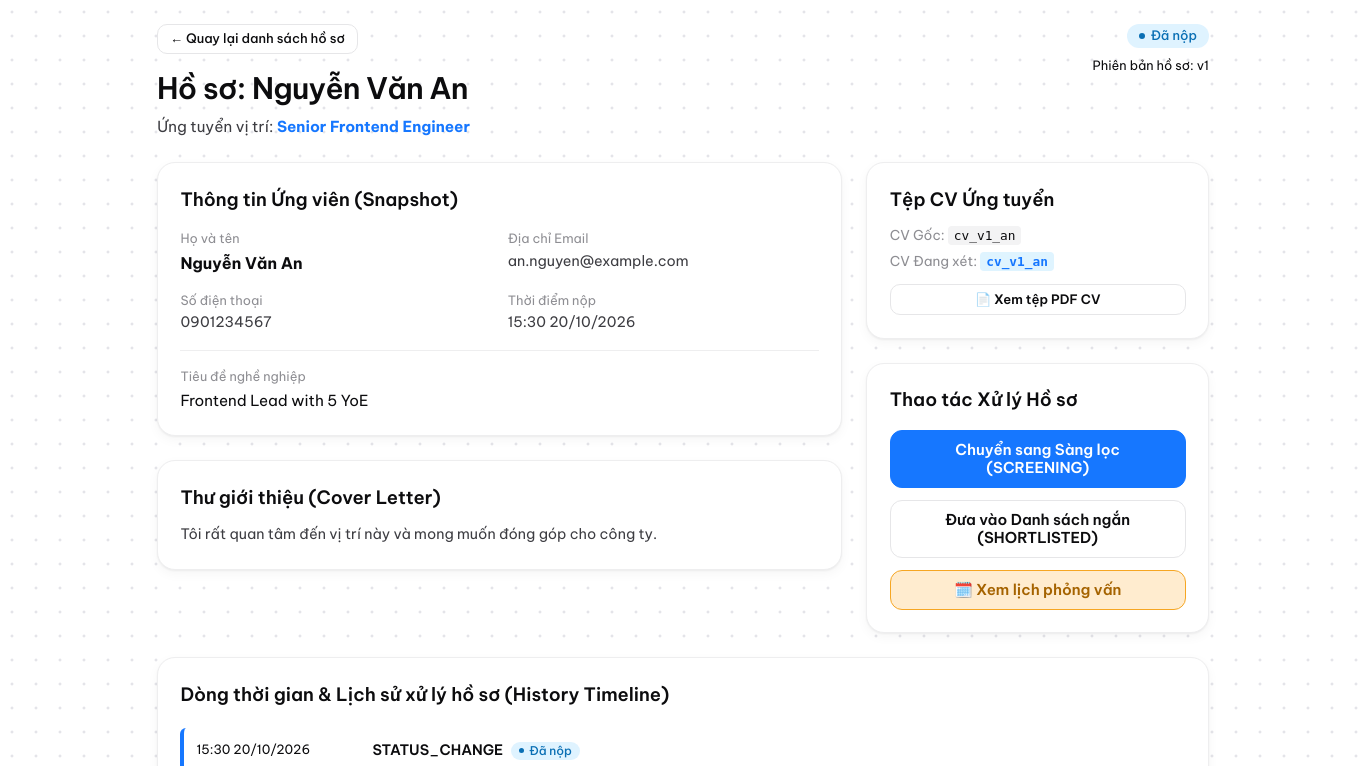
RecruiterApplicationDetailPage (UI20, UI23, FE31) › opens and closes CV preview modal
The width and height of the screenshot is (1366, 766).
Click the button with test id "preview-cv-btn".
click(1038, 300)  # box [890, 284, 1186, 315]
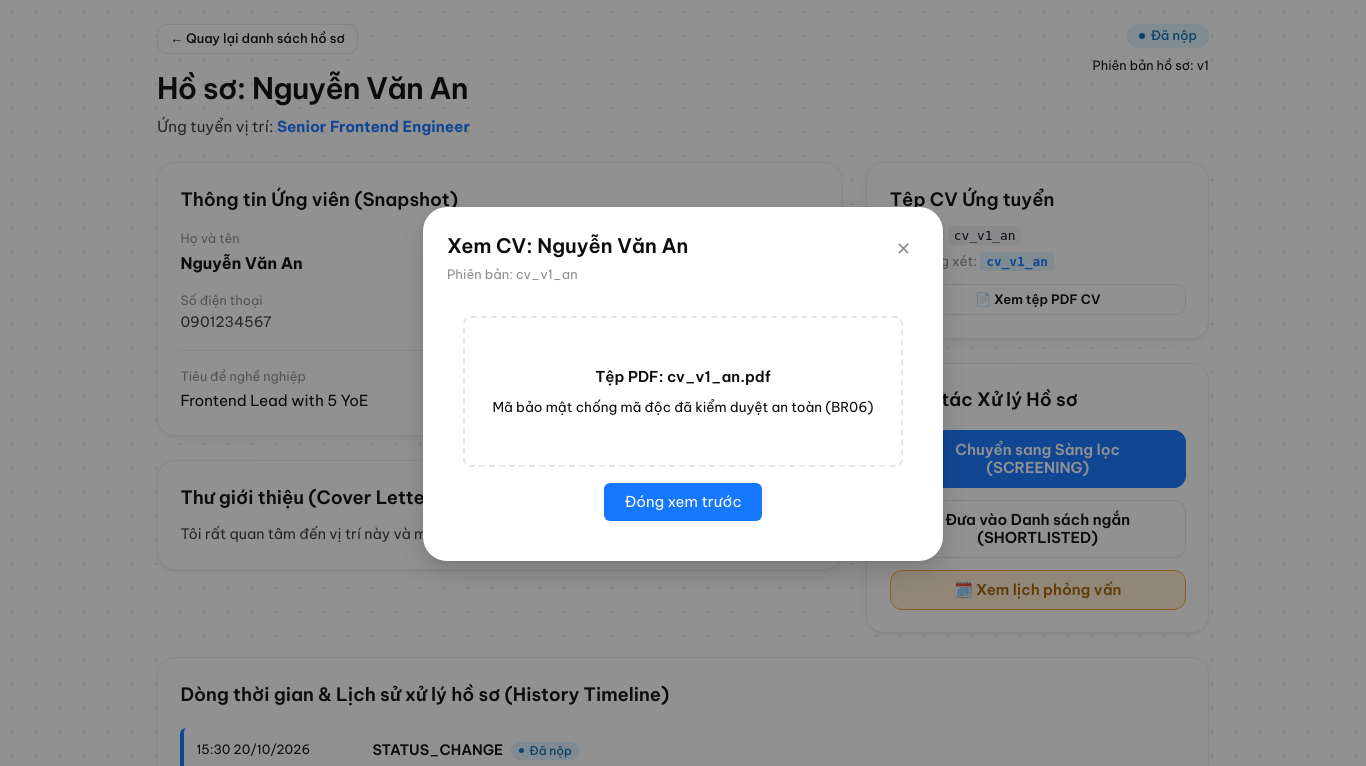
Now the element with test id "cv-preview-modal-content" is shown, box [447, 300, 919, 537]
Click the button "Đóng xem trước".
click(683, 502)  # box [604, 483, 762, 521]
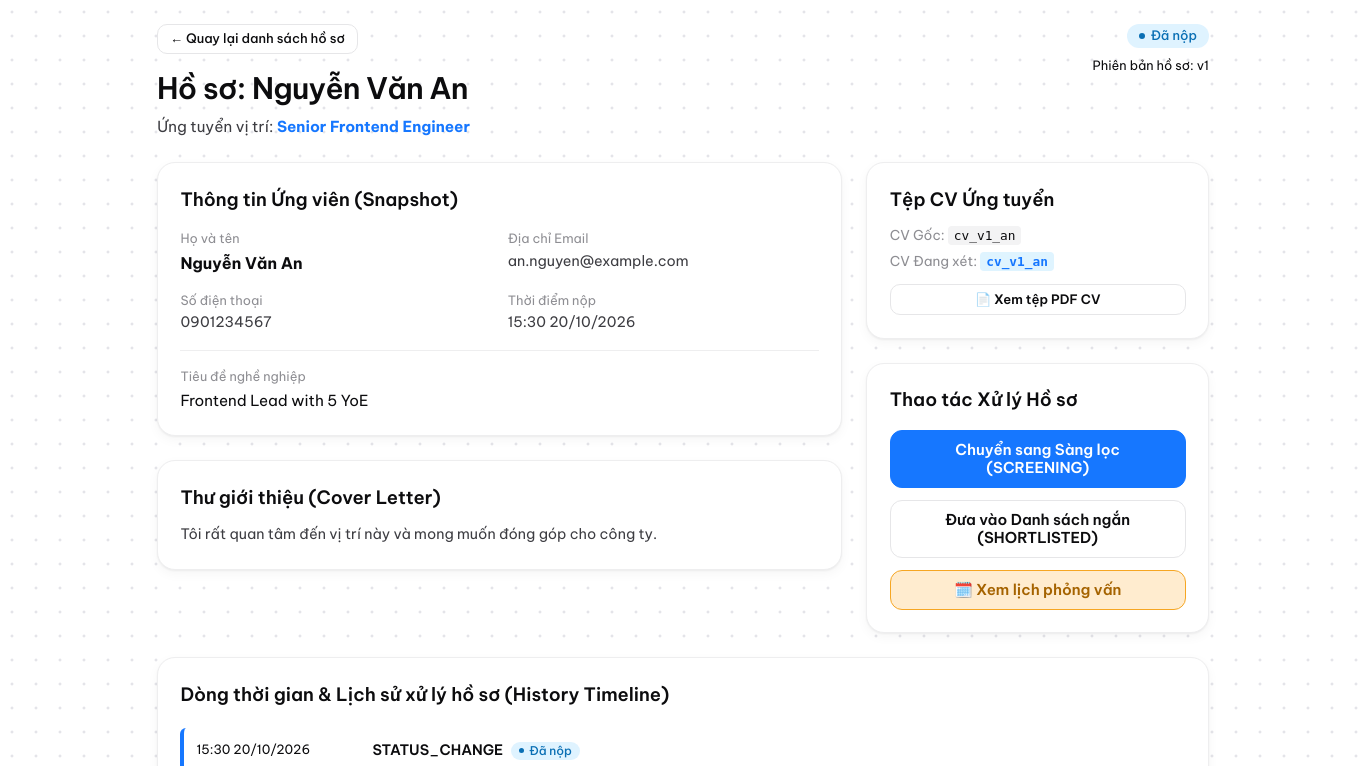
Now the element with test id "cv-preview-modal-content" is gone
